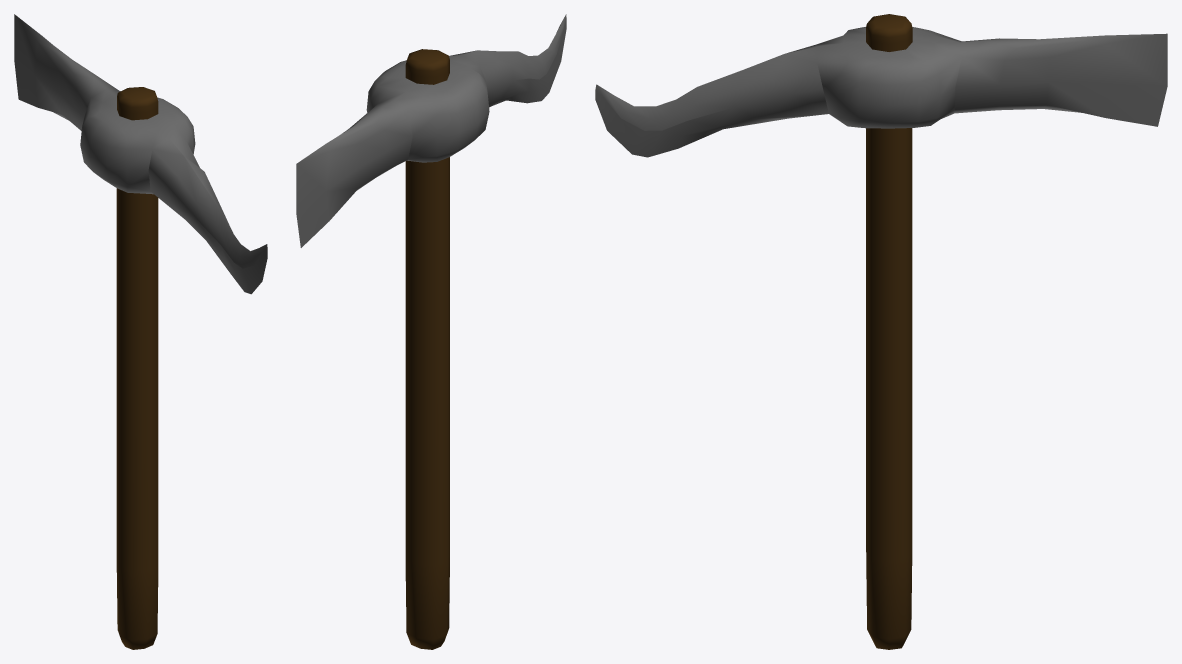
File: Roman Dolabra.fbx
3 views of the same model, side by side, from view 1: azimuth 30°, elevation 25°; view 2: azimuth 150°, elevation 25°; view 3: azimuth 270°, elevation 25° (orthographic). The views are drawn at different scales.
Visible parts, largest first — view 1: Roman Dolabra; view 2: Roman Dolabra; view 3: Roman Dolabra.
Part boxes in pixels (bbox=[...]): Roman Dolabra: bbox=[14, 14, 267, 649]; Roman Dolabra: bbox=[296, 14, 566, 649]; Roman Dolabra: bbox=[595, 14, 1167, 649].
Bounding box in the file's own units: 57.68 × 318 × 265.
